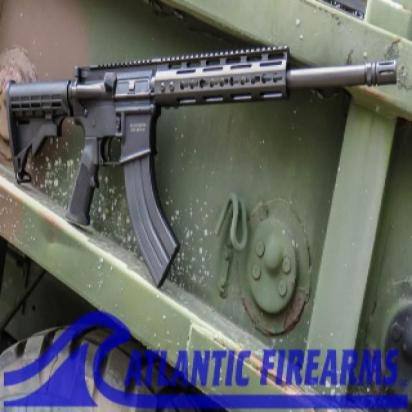Gun: (4, 44, 399, 286)
